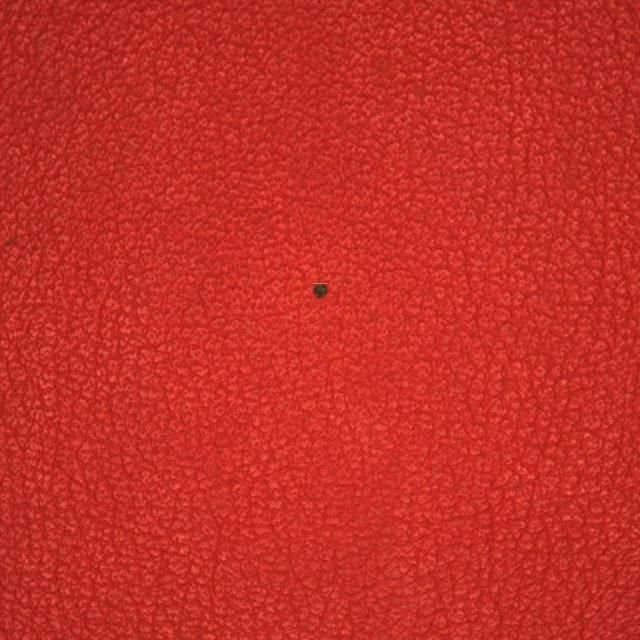Hole: (258, 183, 371, 377)
